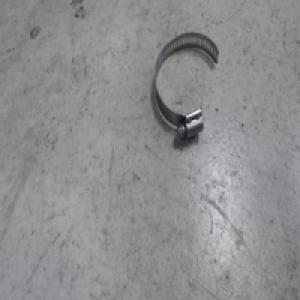AdjustableClamp: (150, 25, 220, 133)
